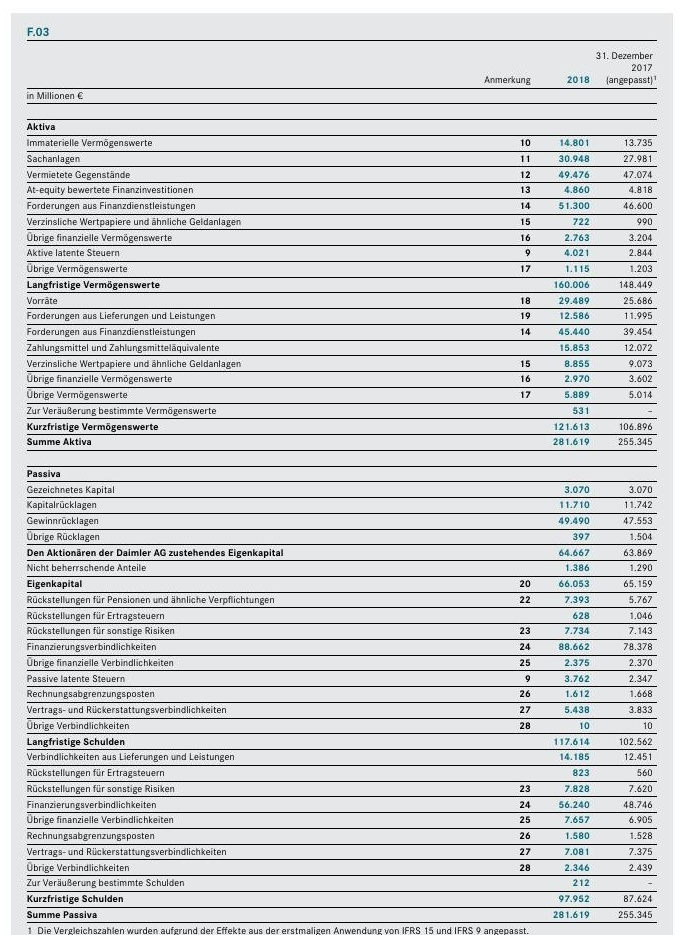table: (0, 0, 682, 935)
